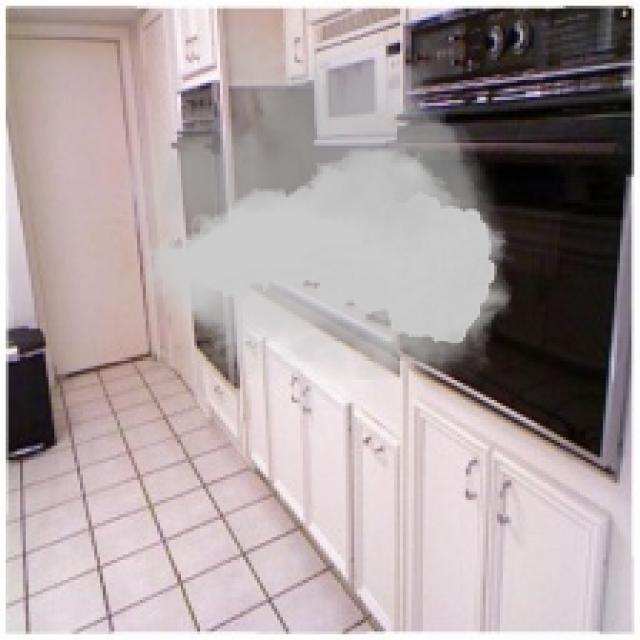smoke: (120, 3, 523, 411)
